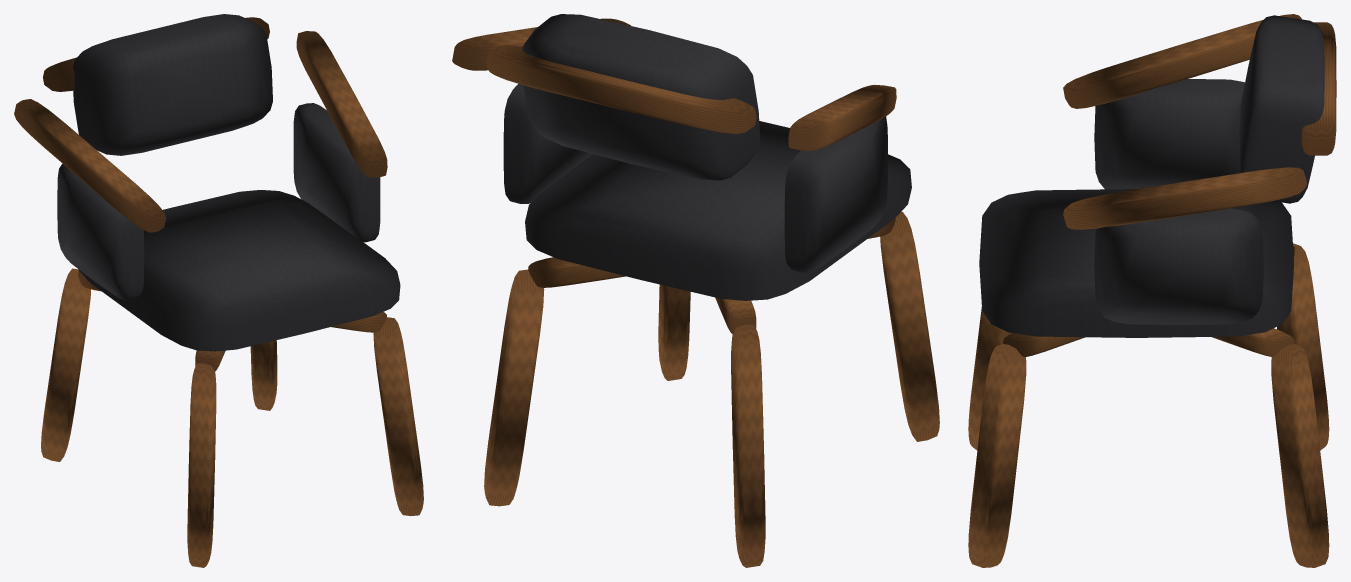
3 renders of one model, left to right at view 1: azimuth 30°, elevation 25°; view 2: azimuth 150°, elevation 25°; view 3: azimuth 270°, elevation 25°, orthographic. The views are drawn at different scales.
Visible parts, largest first — view 1: 1 seat, 2 backrest, 7 right_side_support, 6 left_side_support, 4 left_armrest, 12 front_right_leg, 14 back_left_leg, 10 front_left_leg, 5 right_armrest, 16 back_right_leg, 3 back_rail, 11 front_right_spoke; view 2: 1 seat, 2 backrest, 6 left_side_support, 3 back_rail, 16 back_right_leg, 10 front_left_leg, 14 back_left_leg, 7 right_side_support, 4 left_armrest, 12 front_right_leg, 5 right_armrest, 15 back_right_spoke (+1 smaller); view 3: 1 seat, 7 right_side_support, 6 left_side_support, 2 backrest, 12 front_right_leg, 16 back_right_leg, 5 right_armrest, 4 left_armrest, 14 back_left_leg, 3 back_rail, 10 front_left_leg, 15 back_right_spoke (+1 smaller).
Part boxes in pixels (<box>): 1 seat: <box>78,190,400,351</box>; 2 backrest: <box>73,14,272,155</box>; 7 right_side_support: <box>293,103,380,242</box>; 6 left_side_support: <box>57,163,144,299</box>; 4 left_armrest: <box>14,99,166,232</box>; 12 front_right_leg: <box>373,317,423,515</box>; 14 back_left_leg: <box>41,268,90,461</box>; 10 front_left_leg: <box>187,363,216,567</box>; 5 right_armrest: <box>296,31,387,177</box>; 16 back_right_leg: <box>250,340,277,410</box>; 3 back_rail: <box>43,17,269,91</box>; 11 front_right_spoke: <box>331,312,386,332</box>; 1 seat: <box>525,121,911,300</box>; 2 backrest: <box>522,14,760,180</box>; 6 left_side_support: <box>784,116,887,272</box>; 3 back_rail: <box>486,45,756,133</box>; 16 back_right_leg: <box>484,269,544,506</box>; 10 front_left_leg: <box>880,211,939,441</box>; 14 back_left_leg: <box>731,324,765,567</box>; 7 right_side_support: <box>503,84,592,203</box>; 4 left_armrest: <box>788,84,896,150</box>; 12 front_right_leg: <box>658,284,690,380</box>; 5 right_armrest: <box>452,18,630,70</box>; 15 back_right_spoke: <box>528,257,625,287</box>; 1 seat: <box>979,189,1293,337</box>; 7 right_side_support: <box>1094,208,1263,324</box>; 6 left_side_support: <box>1094,79,1244,189</box>; 2 backrest: <box>1239,15,1324,203</box>; 12 front_right_leg: <box>968,344,1026,567</box>; 16 back_right_leg: <box>1271,344,1329,567</box>; 5 right_armrest: <box>1063,167,1307,229</box>; 4 left_armrest: <box>1063,14,1301,108</box>; 14 back_left_leg: <box>1277,243,1329,450</box>; 3 back_rail: <box>1301,22,1336,155</box>; 10 front_left_leg: <box>968,307,1011,450</box>; 15 back_right_spoke: <box>1212,328,1294,356</box>.
Bounding box in the file's own units: 0.77 × 1 × 0.73.
Materials: 3 (2 with a texture image).
